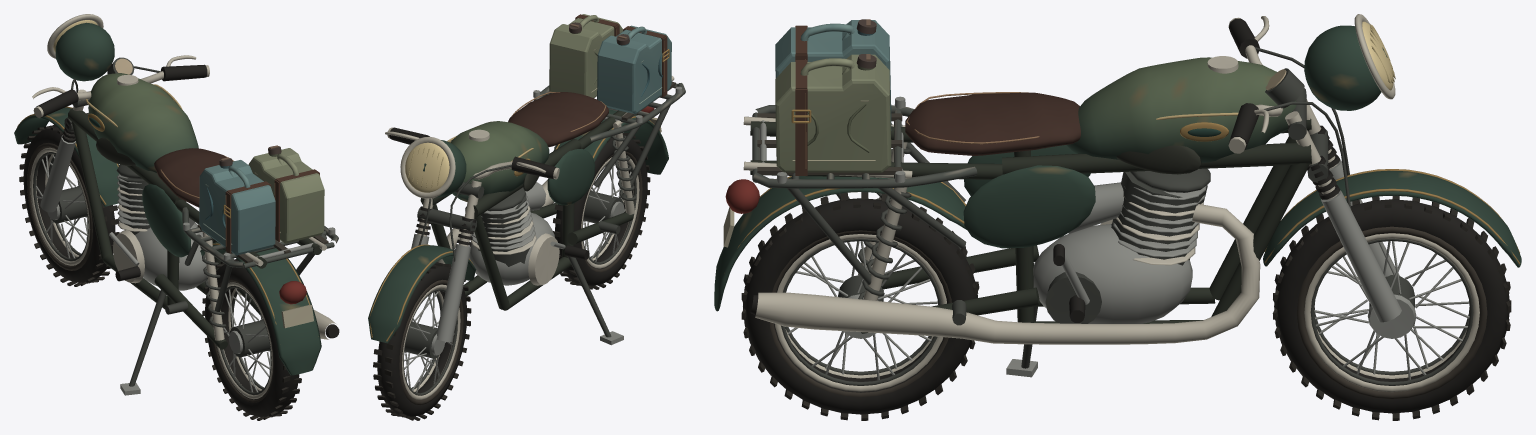
Rendered from field-motorcycle.glb.
3 views of the same model, side by side, from view 1: azimuth 30°, elevation 25°; view 2: azimuth 150°, elevation 25°; view 3: azimuth 270°, elevation 25° (orthographic). The views are drawn at different scales.
Parts seen in each view (by area): view 1: Frame and engine, Pressed enamel and leather strap (×2), Front tyre and laced rim, Rear tyre and laced rim, Suspension and handlebars, Tubular luggage rack, Front painted mudguard, Kickstand; view 2: Frame and engine, Pressed enamel and leather strap (×2), Front tyre and laced rim, Suspension and handlebars, Rear tyre and laced rim, Front painted mudguard, Tubular luggage rack, Headlamp lens, Kickstand; view 3: Frame and engine, Front tyre and laced rim, Rear tyre and laced rim, Pressed enamel and leather strap (×2), Suspension and handlebars, Tubular luggage rack, Front painted mudguard, Headlamp lens.
Part boxes in pixels (box(x1,y1,x2,y2)): Frame and engine: box(68, 73, 339, 375); Pressed enamel and leather strap (×2): box(199, 145, 324, 255); Front tyre and laced rim: box(19, 124, 119, 286); Rear tyre and laced rim: box(202, 259, 301, 420); Suspension and handlebars: box(32, 14, 209, 212); Tubular luggage rack: box(182, 207, 338, 311); Front painted mudguard: box(14, 106, 119, 206); Kickstand: box(120, 290, 166, 395); Frame and engine: box(420, 76, 674, 310); Pressed enamel and leather strap (×2): box(549, 14, 671, 114); Front tyre and laced rim: box(373, 262, 471, 420); Suspension and handlebars: box(385, 127, 559, 342); Rear tyre and laced rim: box(553, 133, 650, 289); Front painted mudguard: box(368, 244, 476, 343); Tubular luggage rack: box(533, 81, 685, 197); Headlamp lens: box(405, 142, 449, 192); Kickstand: box(567, 256, 623, 345); Frame and engine: box(714, 56, 1311, 344); Front tyre and laced rim: box(1272, 196, 1511, 420); Rear tyre and laced rim: box(741, 192, 979, 420); Pressed enamel and leather strap (×2): box(775, 19, 891, 175); Suspension and handlebars: box(1228, 14, 1401, 322); Tubular luggage rack: box(752, 96, 977, 291); Front painted mudguard: box(1263, 169, 1521, 267); Headlamp lens: box(1362, 21, 1395, 90).
Size of the model in its own units: 0.7364 by 1.12 by 2.05.
